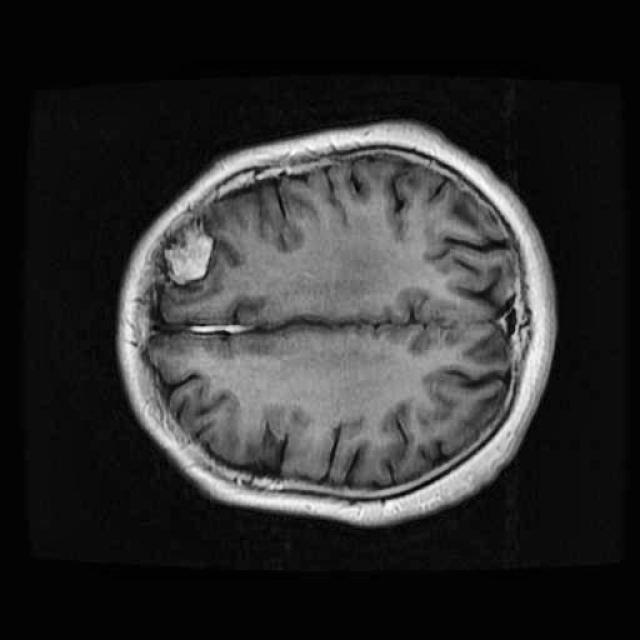Tumor: (152, 210, 233, 300)
